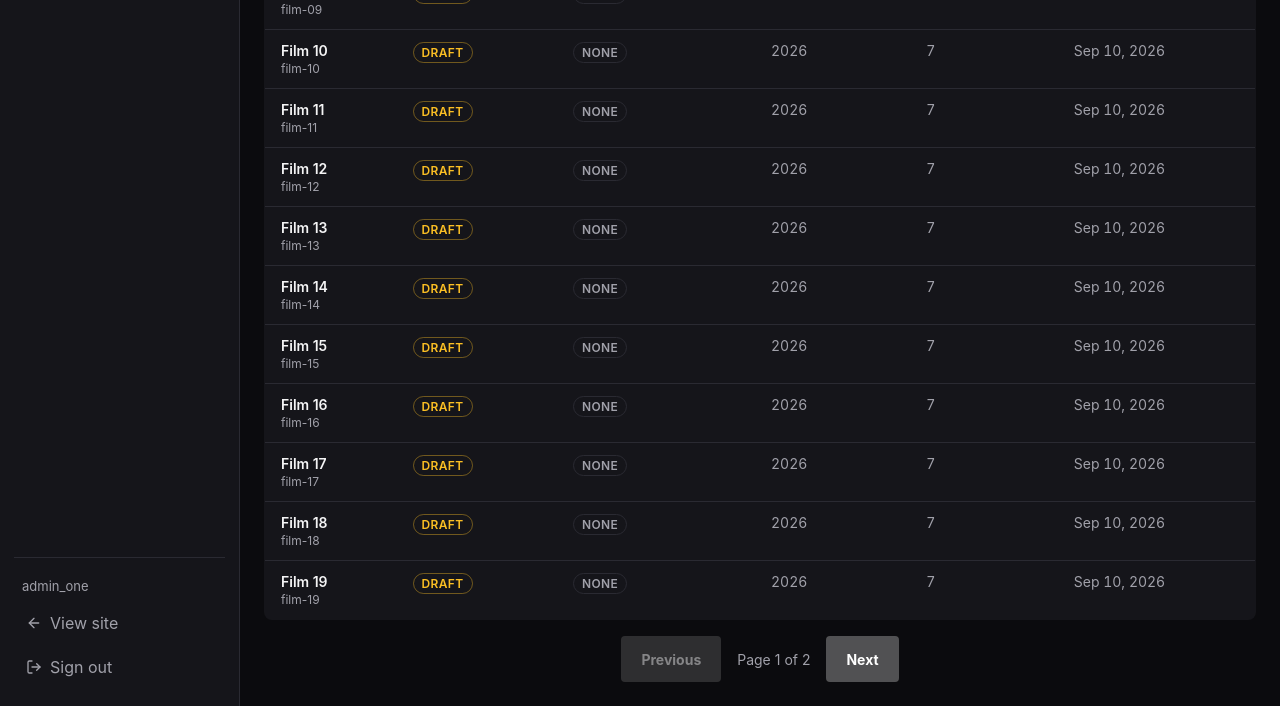
Test: Film library › paginates the catalog and persists the page in the URL
The width and height of the screenshot is (1280, 706).
(page scrolled)
Expected: the text "Page 1 of 2" is shown, [737, 650, 810, 668]
Click the button "Next" at (862, 659), box [826, 636, 899, 682]
(page scrolled)
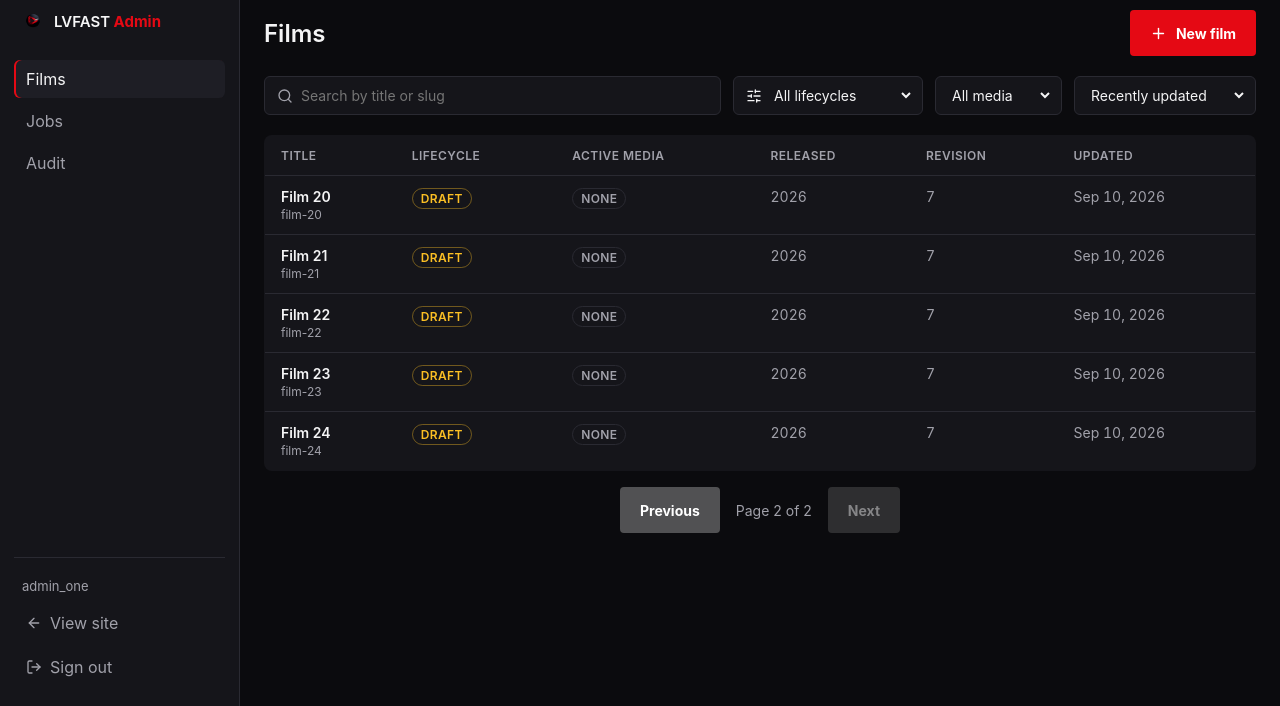
Expected: the link "Film 20 film-20" is shown, [281, 188, 331, 222]
Expected: the text "Page 2 of 2" is shown, [736, 502, 812, 518]
